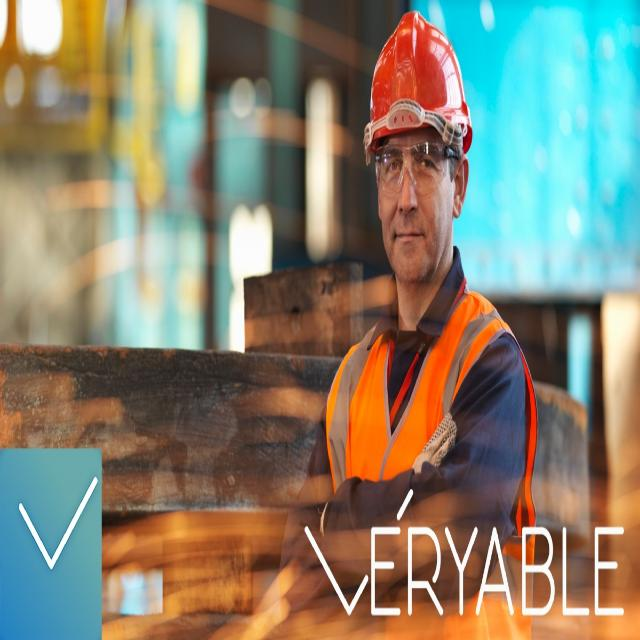Reflective-Jacket: (319, 286, 538, 627)
Safety-Helmet: (359, 5, 476, 161)
